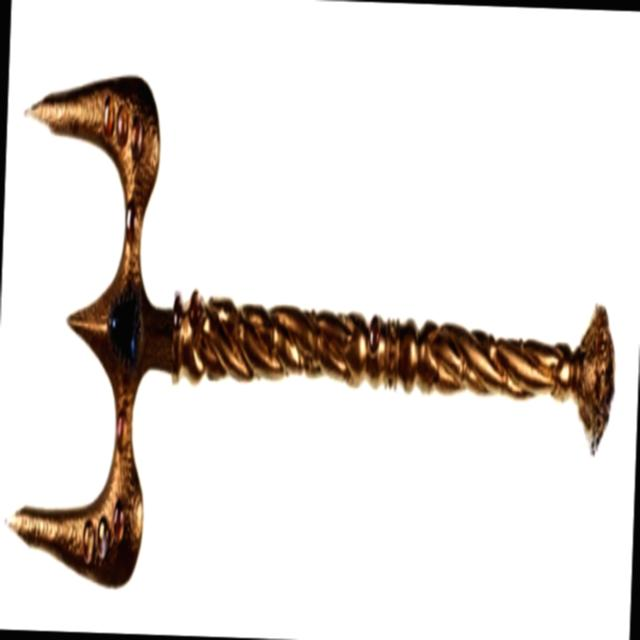spear: (0, 47, 639, 636)
